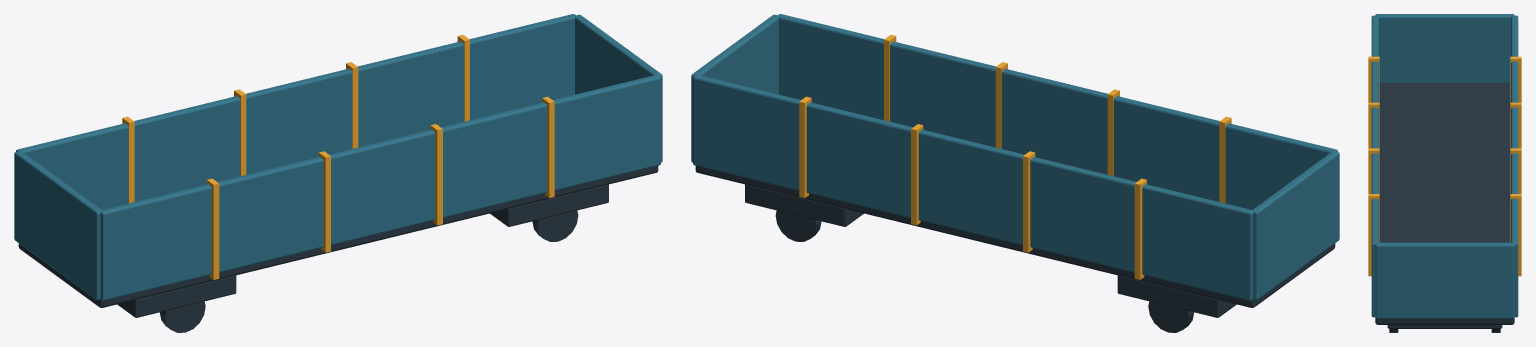
The model's file is wagon-low.glb.
The picture shows the model from 3 angles, left to right: view 1: azimuth 30°, elevation 25°; view 2: azimuth 150°, elevation 25°; view 3: azimuth 270°, elevation 25°; orthographic projection. The views are drawn at different scales.
Visible parts, largest first — view 1: wagon_side_left, wagon_side_right, wagon_end_front, wagon_deck, wagon_end_back, bogie, bogie.001, wagon_wheel, wagon_wheel.002, wagon_rib, wagon_rib.004, wagon_rib.006 (+5 smaller); view 2: wagon_side_right, wagon_side_left, wagon_end_front, wagon_deck, wagon_end_back, bogie, bogie.001, wagon_wheel.001, wagon_wheel.003, wagon_rib.001, wagon_rib.005, wagon_rib.007 (+5 smaller); view 3: wagon_deck, wagon_end_back, wagon_end_front, wagon_side_left, wagon_side_right, bogie.001, wagon_rib.006, wagon_rib.007, wagon_rib, wagon_rib.001, wagon_rib.002, wagon_rib.003 (+2 smaller).
Boxes of the visible parts, left/top/right/bottom form: wagon_side_left: left=100, top=75, right=660, bottom=300; wagon_side_right: left=16, top=14, right=575, bottom=209; wagon_end_front: left=14, top=151, right=101, bottom=300; wagon_deck: left=18, top=165, right=658, bottom=307; wagon_end_back: left=575, top=14, right=662, bottom=162; bogie: left=117, top=275, right=236, bottom=317; bogie.001: left=490, top=184, right=608, bottom=226; wagon_wheel: left=159, top=301, right=205, bottom=332; wagon_wheel.002: left=532, top=210, right=578, bottom=241; wagon_rib: left=207, top=178, right=219, bottom=279; wagon_rib.004: left=430, top=124, right=442, bottom=225; wagon_rib.006: left=542, top=96, right=554, bottom=198; wagon_side_right: left=693, top=75, right=1253, bottom=300; wagon_side_left: left=778, top=14, right=1337, bottom=209; wagon_end_front: left=1252, top=151, right=1339, bottom=300; wagon_deck: left=695, top=165, right=1335, bottom=307; wagon_end_back: left=691, top=14, right=778, bottom=162; bogie: left=1117, top=275, right=1236, bottom=317; bogie.001: left=745, top=184, right=863, bottom=226; wagon_wheel.001: left=1148, top=301, right=1194, bottom=332; wagon_wheel.003: left=775, top=210, right=821, bottom=241; wagon_rib.001: left=1134, top=178, right=1146, bottom=279; wagon_rib.005: left=911, top=124, right=923, bottom=225; wagon_rib.007: left=799, top=96, right=811, bottom=198; wagon_deck: left=1375, top=83, right=1514, bottom=324; wagon_end_back: left=1375, top=242, right=1514, bottom=318; wagon_end_front: left=1375, top=14, right=1514, bottom=82; wagon_side_left: left=1371, top=15, right=1378, bottom=317; wagon_side_right: left=1511, top=15, right=1518, bottom=317; bogie.001: left=1387, top=325, right=1502, bottom=328; wagon_rib.006: left=1368, top=194, right=1379, bottom=276; wagon_rib.007: left=1510, top=194, right=1521, bottom=276; wagon_rib: left=1368, top=56, right=1379, bottom=102; wagon_rib.001: left=1510, top=56, right=1521, bottom=102; wagon_rib.002: left=1368, top=102, right=1379, bottom=148; wagon_rib.003: left=1510, top=102, right=1521, bottom=148.
Size of the model in its own units: 13.38 by 3.45 by 3.74.
